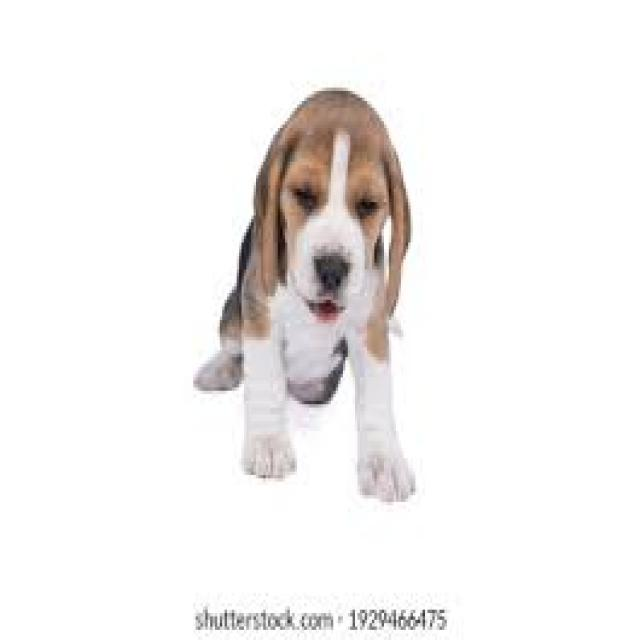Dog: (188, 81, 422, 513)
